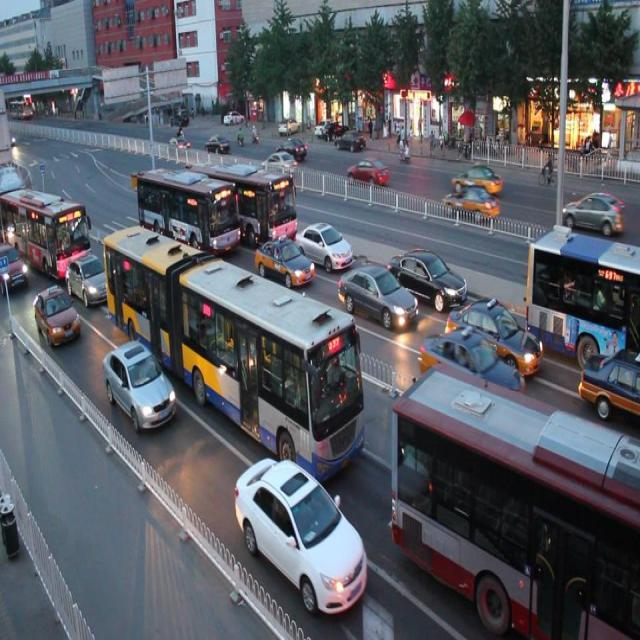car: (234, 453, 365, 614), (419, 327, 525, 423), (446, 294, 544, 382), (104, 337, 176, 431), (337, 258, 416, 331), (390, 243, 468, 309), (576, 345, 640, 417), (253, 230, 314, 289), (294, 214, 352, 273), (34, 284, 81, 348), (65, 252, 115, 307), (1, 240, 29, 295)
van: (102, 218, 366, 482), (390, 364, 640, 640), (524, 225, 640, 360), (137, 161, 240, 260), (191, 153, 298, 248), (1, 182, 90, 272)
